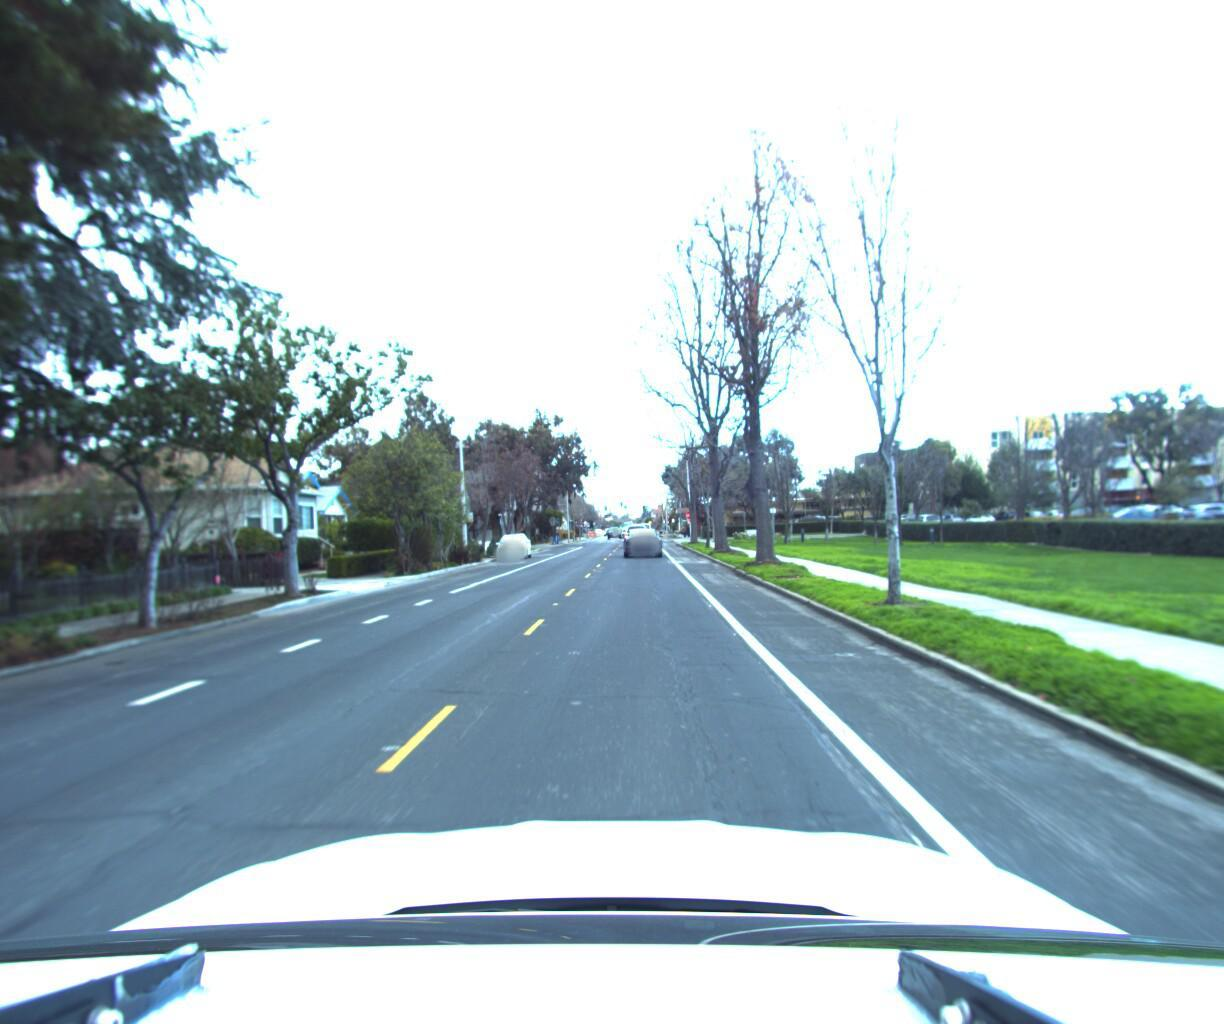car: (619, 522, 659, 557), (493, 533, 533, 563), (619, 517, 651, 550)
